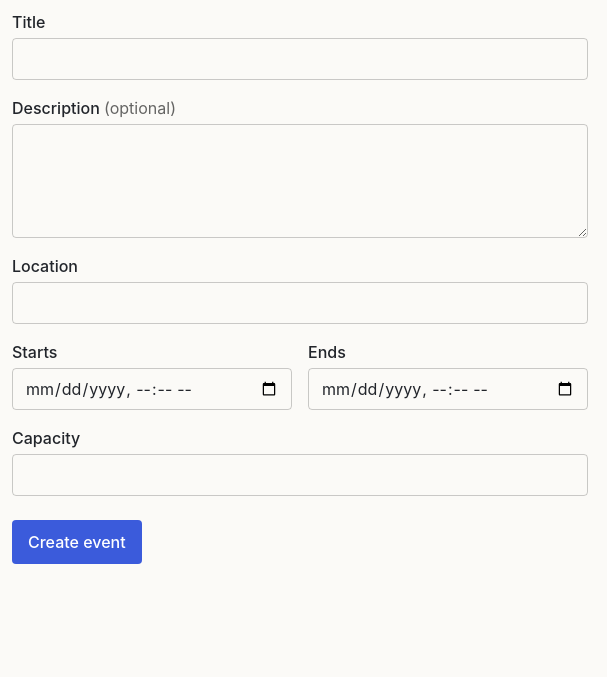
Test: EventForm › shows an error for every required field and does not submit an empty form
The image size is (607, 677).
Click the button "Create event".
click(77, 542)  # box [12, 520, 142, 564]
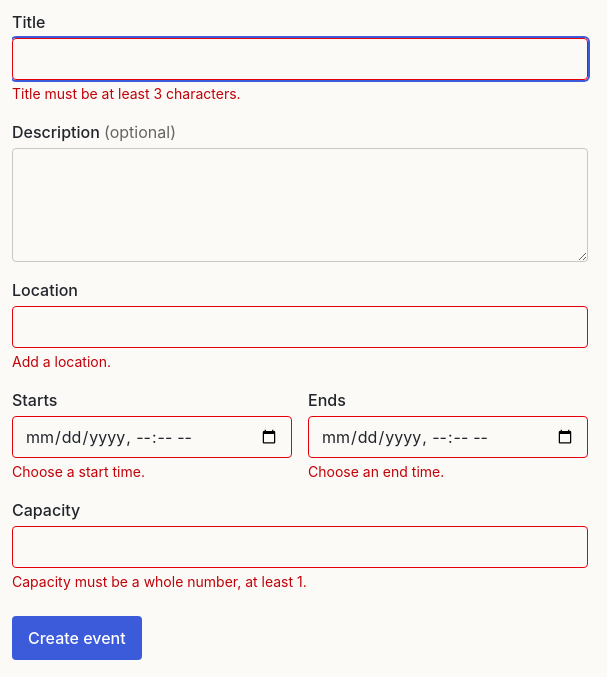
Now the text "Title must be at least 3 characters." is shown, box [12, 85, 241, 102]
Now the text "Add a location." is shown, box [12, 353, 111, 370]
Now the text "Choose a start time." is shown, box [12, 463, 145, 480]
